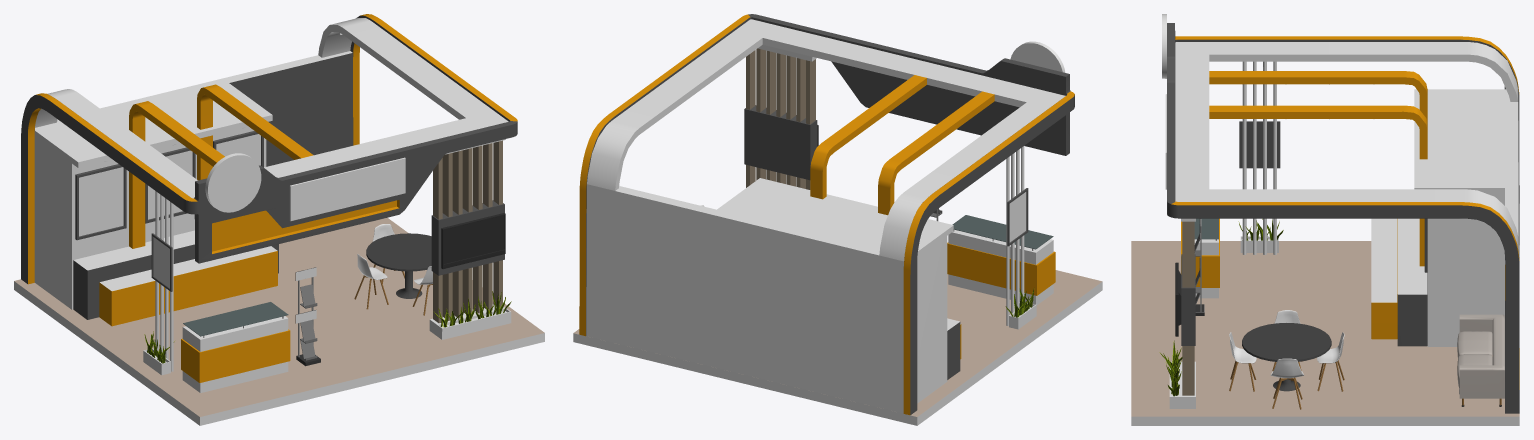
The picture shows the model from 3 angles, left to right: view 1: azimuth 30°, elevation 25°; view 2: azimuth 150°, elevation 25°; view 3: azimuth 270°, elevation 25°; orthographic projection. The views are drawn at different scales.
Parts seen in each view (by area): view 1: Stand1; view 2: Stand1; view 3: Stand1.
Part boxes in pixels (left/top/right/bottom): Stand1: left=14, top=14, right=544, bottom=425; Stand1: left=573, top=14, right=1102, bottom=425; Stand1: left=1131, top=14, right=1519, bottom=425.
Size of the model in its own units: 41.05 by 28.15 by 38.33.
